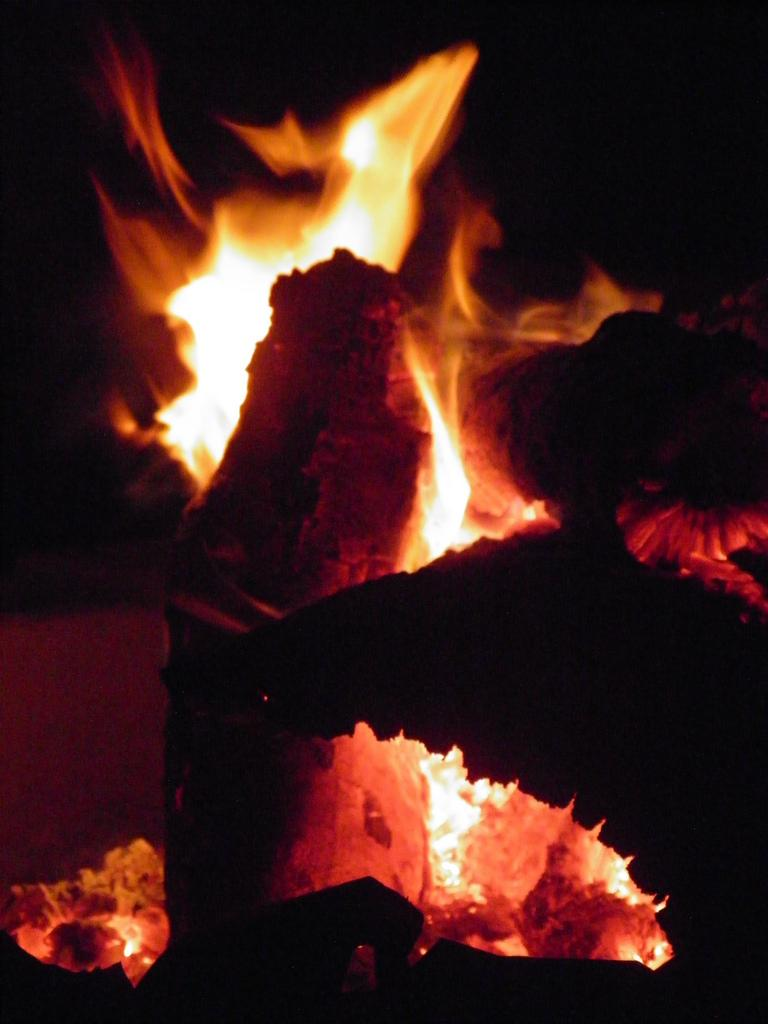fire: (115, 212, 230, 460), (415, 758, 525, 918), (335, 118, 440, 262), (403, 430, 488, 560)
